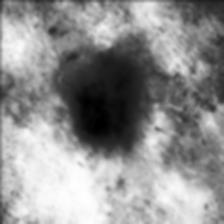Potentially Malignant Skin Tumors: (72, 52, 140, 146)
